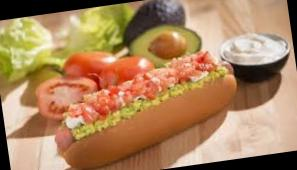Completos: (48, 43, 245, 170)
